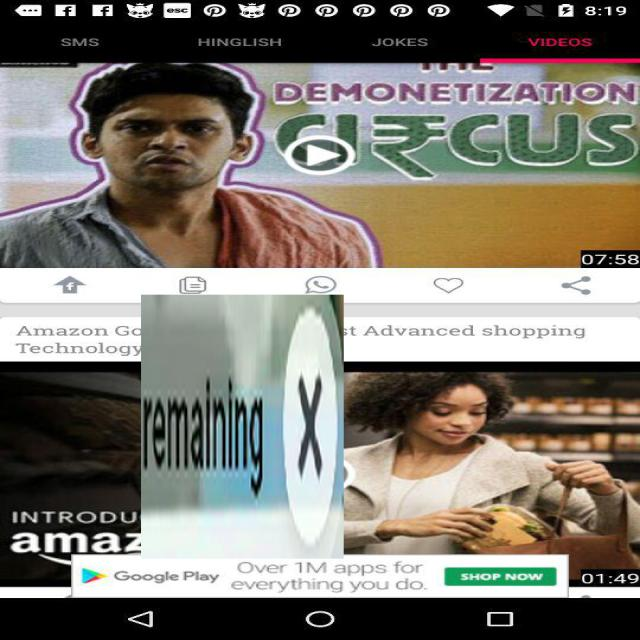misdirection: (141, 294, 344, 558)
